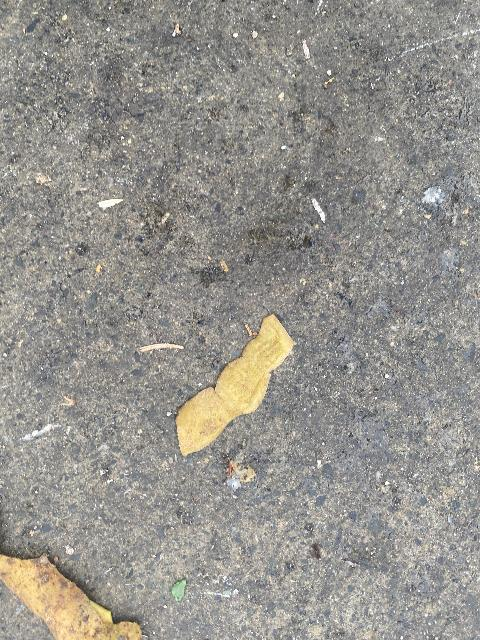Organik: (176, 313, 298, 455)
